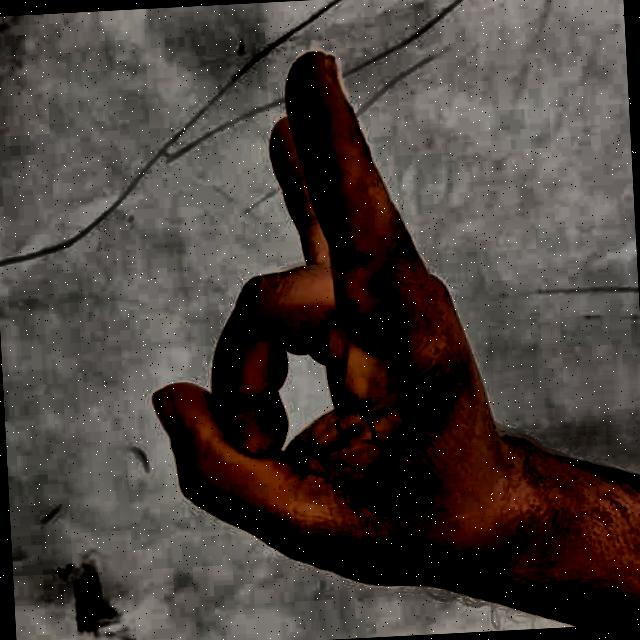Cha: (88, 13, 545, 640)
